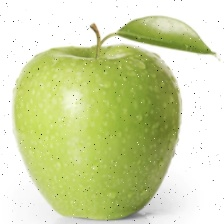apple: (39, 2, 194, 178)
